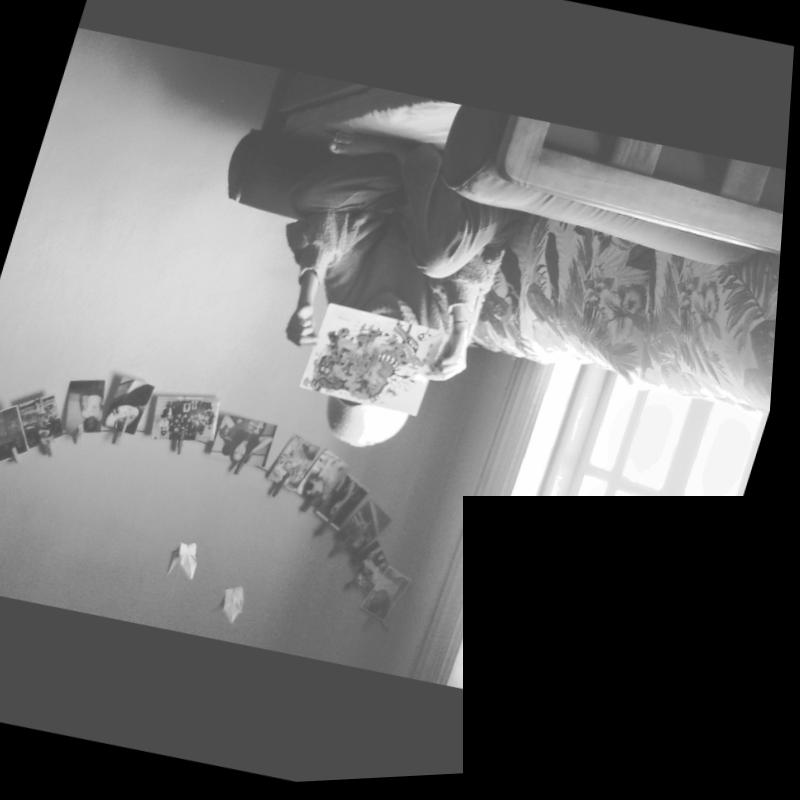pillow: (609, 153, 790, 428), (471, 202, 686, 407), (470, 207, 566, 366)
